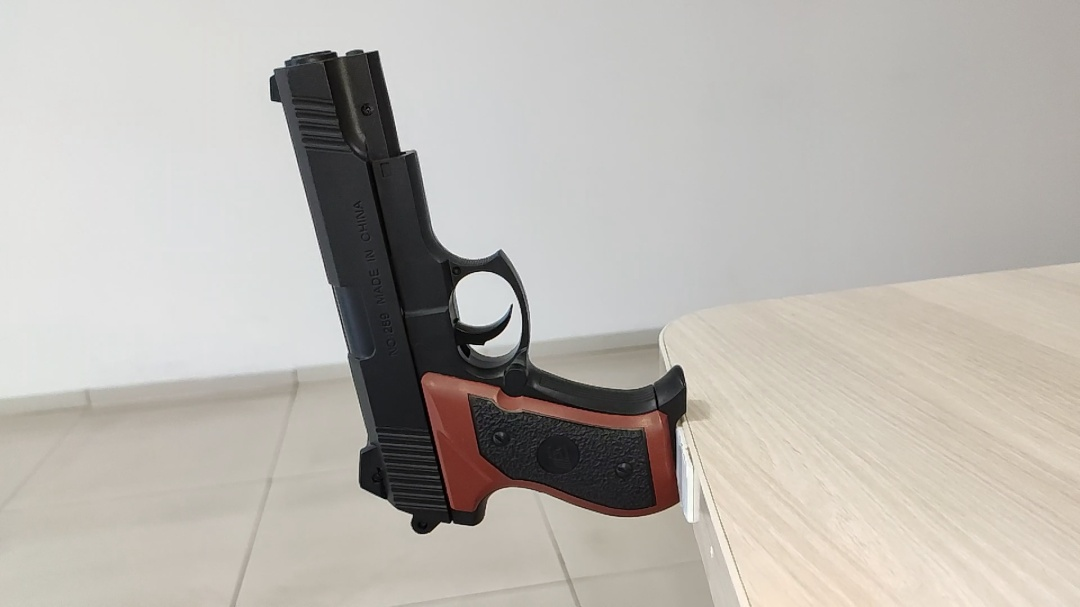gun: (355, 302, 400, 329)
